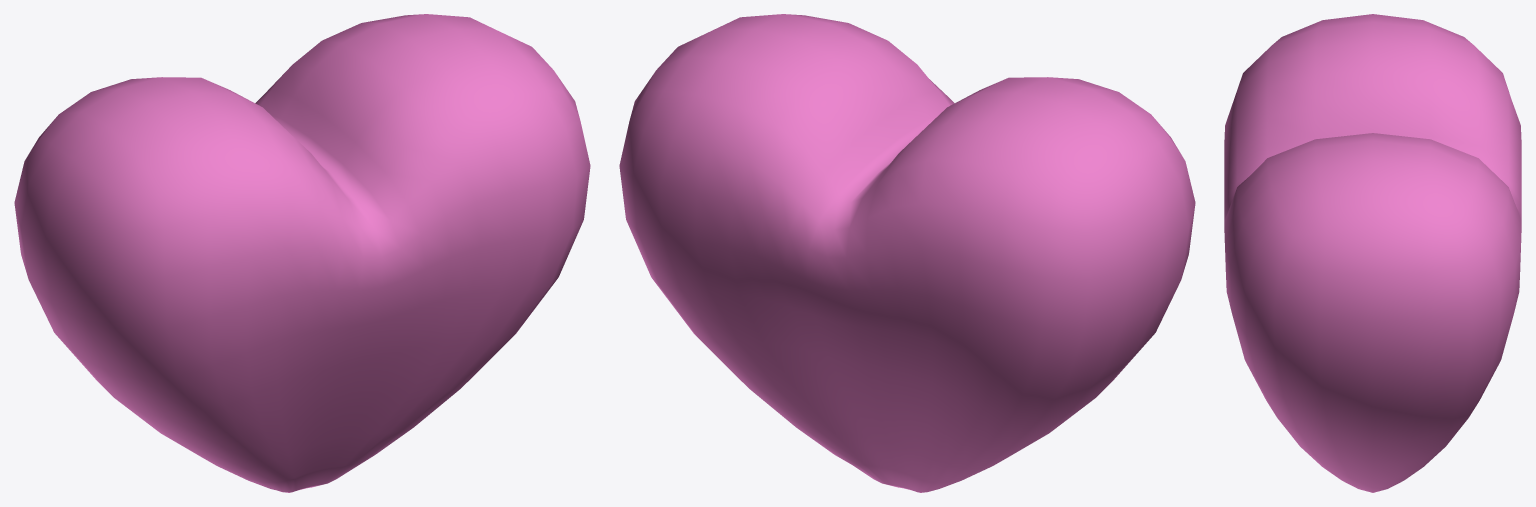
File: heart.fbx
The picture shows the model from 3 angles, left to right: view 1: azimuth 30°, elevation 25°; view 2: azimuth 150°, elevation 25°; view 3: azimuth 270°, elevation 25°; orthographic projection. The views are drawn at different scales.
Visible parts, largest first — view 1: Cube; view 2: Cube; view 3: Cube.
Part boxes in pixels (left/top/right/bottom): Cube: left=14, top=14, right=590, bottom=492; Cube: left=619, top=14, right=1195, bottom=492; Cube: left=1224, top=14, right=1521, bottom=492.
Size of the model in its own units: 211 by 165 by 113.
